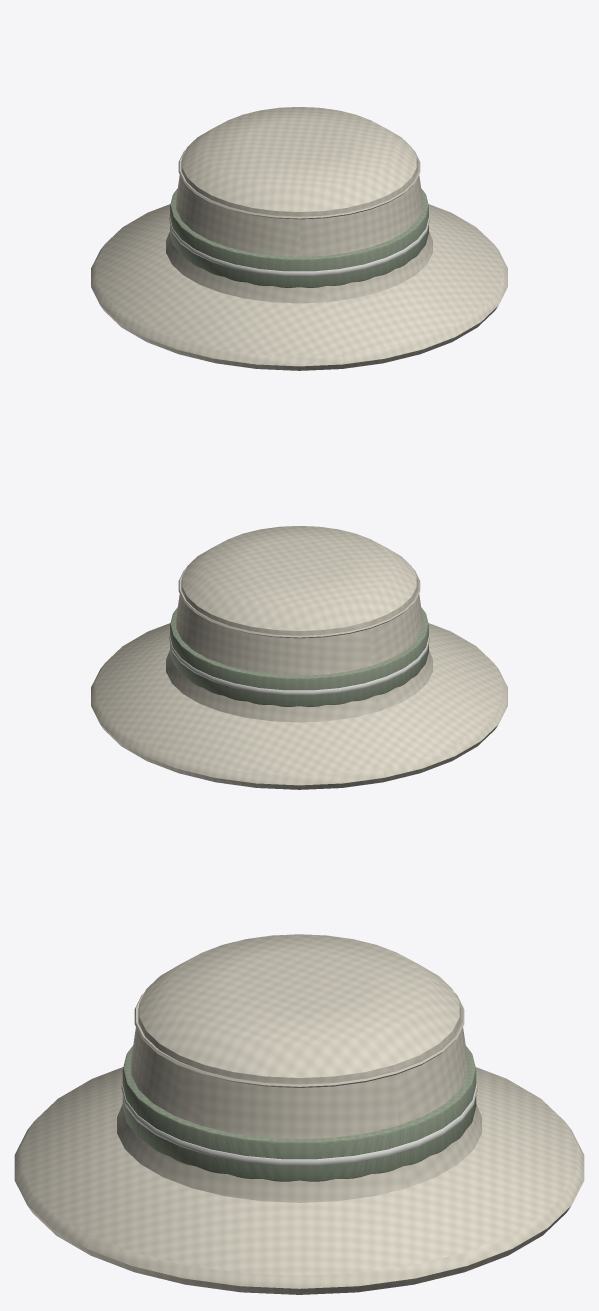
Rendered from pf_hat_bucket.glb.
3 renders of one model, top to bottom at view 1: azimuth 30°, elevation 25°; view 2: azimuth 150°, elevation 25°; view 3: azimuth 270°, elevation 25°, orthographic. The views are drawn at different scales.
Parts seen in each view (by area): view 1: pf_hat_bucket_body.001; view 2: pf_hat_bucket_body.001; view 3: pf_hat_bucket_body.001.
Boxes of the visible parts, bbox=[...] form: pf_hat_bucket_body.001: bbox=[91, 107, 507, 370]; pf_hat_bucket_body.001: bbox=[91, 526, 507, 789]; pf_hat_bucket_body.001: bbox=[14, 934, 584, 1294].
Size of the model in its own units: 0.306 by 0.12 by 0.305.
7 materials, 2 textured.
